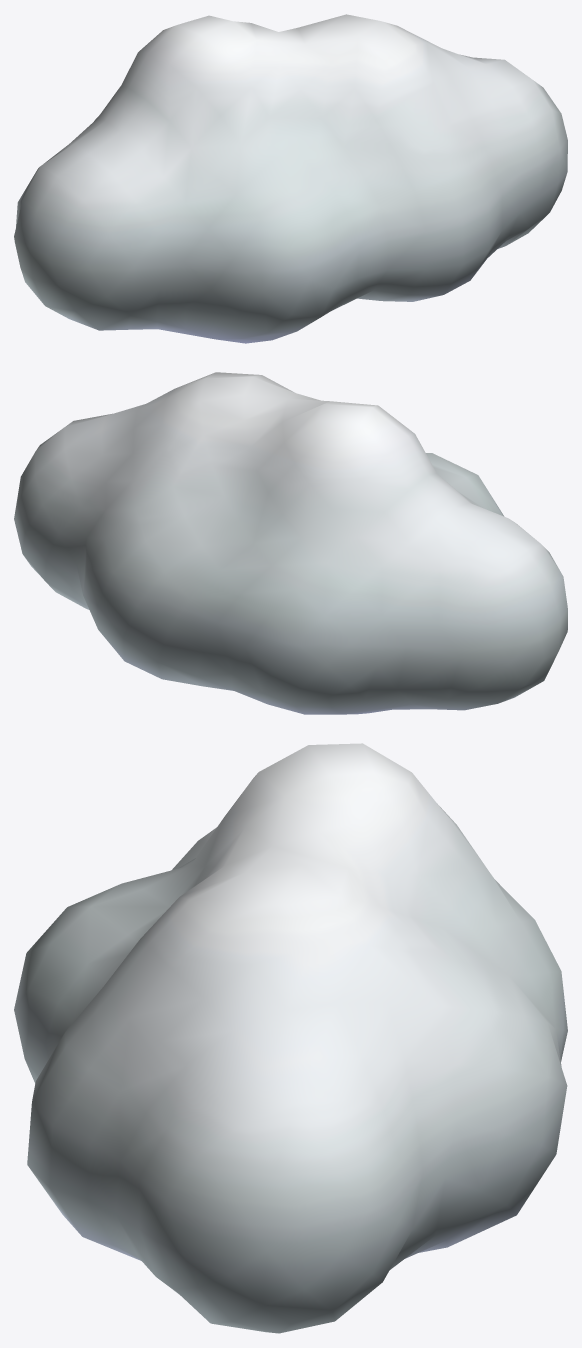
File: cloud-big.glb
The picture shows the model from 3 angles, top to bottom: view 1: azimuth 30°, elevation 25°; view 2: azimuth 150°, elevation 25°; view 3: azimuth 270°, elevation 25°; orthographic projection. The views are drawn at different scales.
Parts seen in each view (by area): view 1: cloud_big; view 2: cloud_big; view 3: cloud_big.
Boxes of the visible parts, x1,y1,x2,y2 form: cloud_big: [14, 14, 567, 343]; cloud_big: [14, 372, 567, 714]; cloud_big: [14, 743, 567, 1333].
Size of the model in its own units: 3.61 by 1.95 by 2.24.
Materials: 1 (1 with a texture image).
